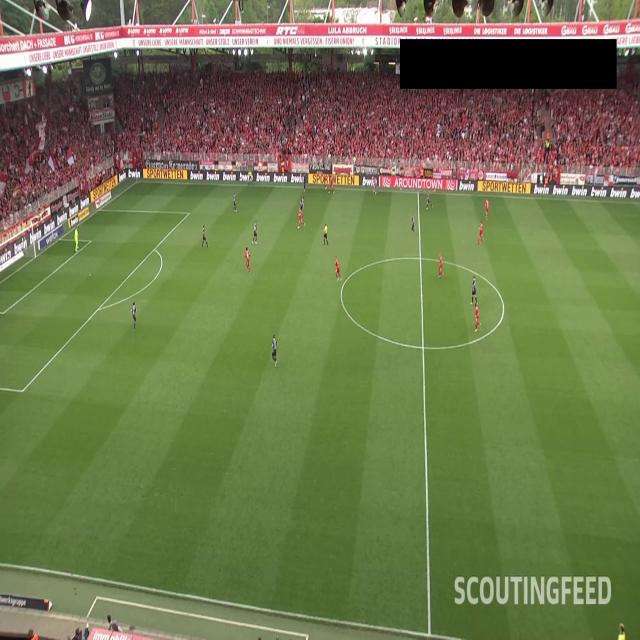GoalKeeper: (74, 225, 80, 253)
Referee: (616, 621, 629, 640), (323, 224, 328, 247), (248, 170, 254, 186)
TEAM 1: (333, 254, 342, 283), (244, 246, 252, 275), (474, 304, 482, 332), (476, 219, 484, 246), (297, 208, 306, 231), (327, 174, 335, 194), (438, 252, 444, 278), (484, 199, 490, 221), (372, 176, 377, 196), (322, 173, 327, 190)
TEAM 2: (271, 334, 280, 368), (201, 224, 210, 250), (130, 302, 138, 331), (471, 274, 478, 307), (425, 192, 434, 212), (252, 221, 258, 247), (232, 191, 238, 214), (299, 197, 305, 218), (410, 212, 415, 235), (302, 174, 307, 192)
